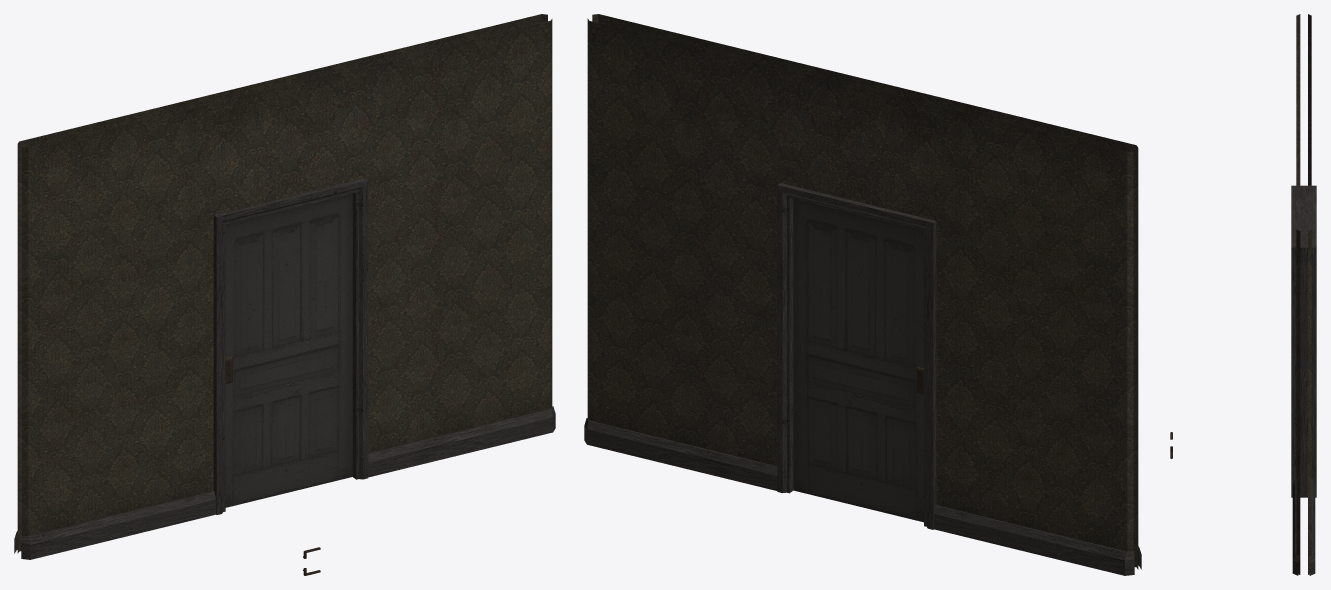
Rendered from doorway_2_1.fbx.
3 views of the same model, side by side, from view 1: azimuth 30°, elevation 25°; view 2: azimuth 150°, elevation 25°; view 3: azimuth 270°, elevation 25° (orthographic). The views are drawn at different scales.
Visible parts, largest first — view 1: doorway_2_1, door_1; view 2: doorway_2_1, door_1; view 3: doorway_2_1.
Part boxes in pixels (x1,y1,x2,y2): doorway_2_1: (14, 14, 555, 559); door_1: (225, 193, 352, 507); doorway_2_1: (584, 14, 1141, 575); door_1: (793, 199, 923, 522); doorway_2_1: (1291, 14, 1316, 575).
Bounding box in the file's own units: 4.09 × 3.09 × 1.16.
Materials: 5 (5 with a texture image).
